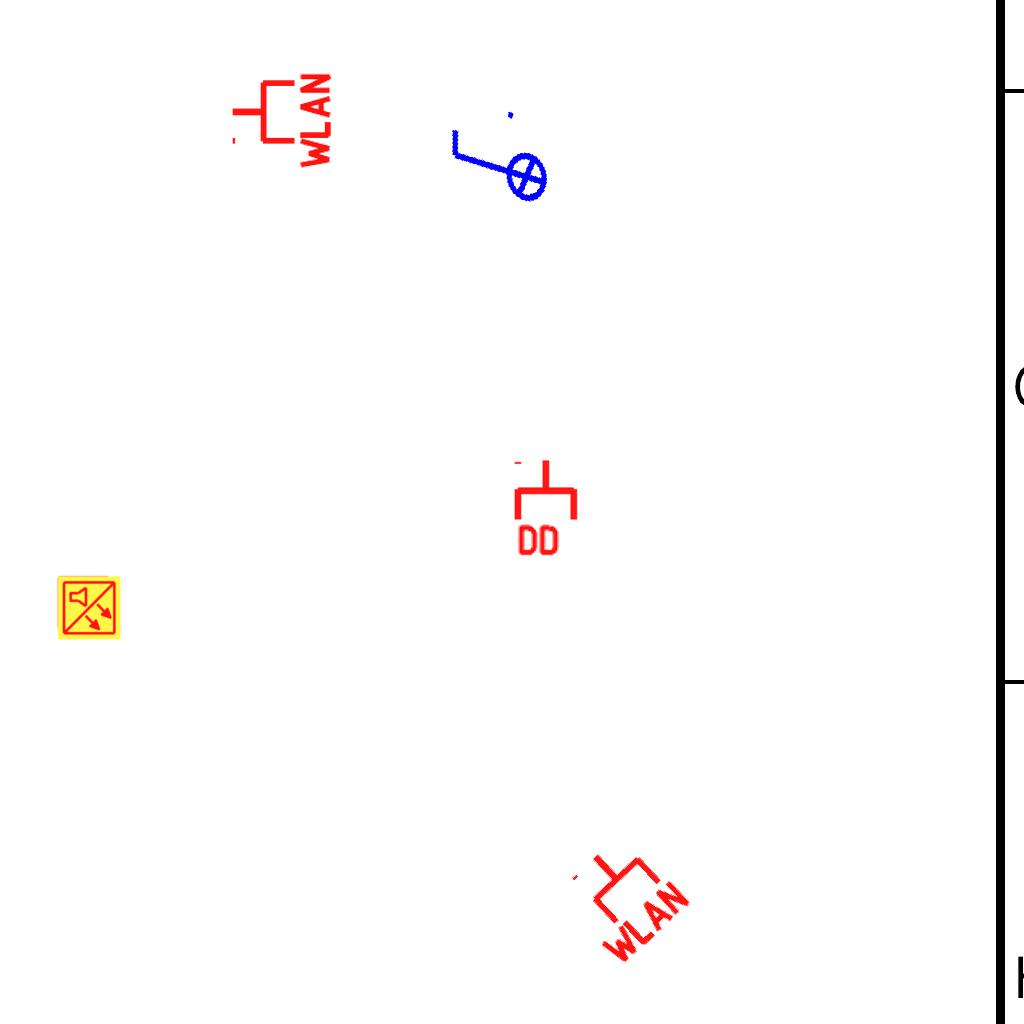Ausschalter_beleuchtet: (436, 100, 558, 234)
Datenanschluss_zweifach: (513, 457, 582, 560)
OKW_Multisensormelder_(Kombination_optischer_Rauch-Kahlenmonoxid_Waerme-Melder): (56, 575, 122, 641)
WLAN: (547, 824, 696, 972), (228, 69, 333, 173)
